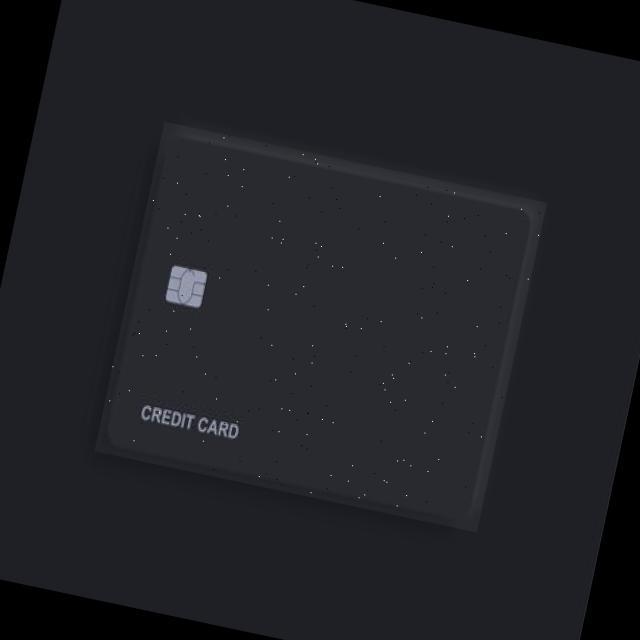payment_card: (93, 118, 547, 533)
